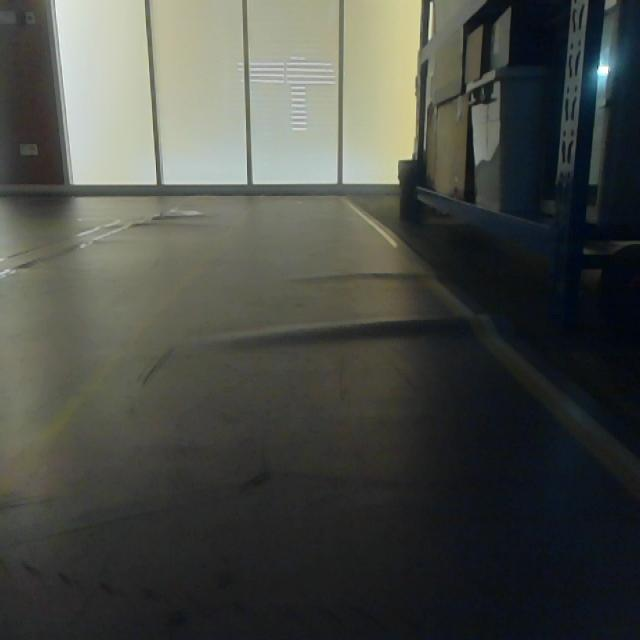left_lane: (0, 194, 262, 500)
right_lane: (341, 197, 639, 500)
